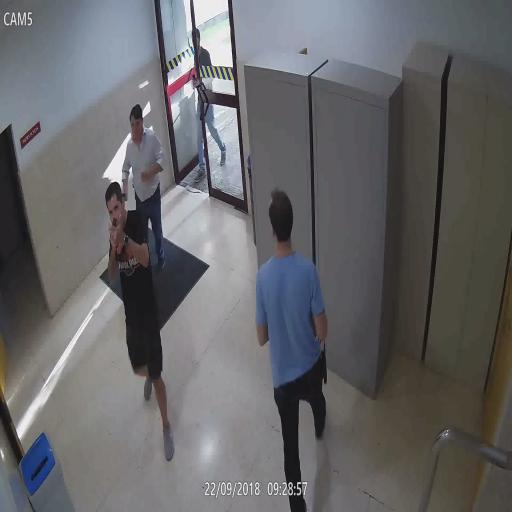Handgun: (108, 216, 120, 252), (190, 72, 198, 90)
